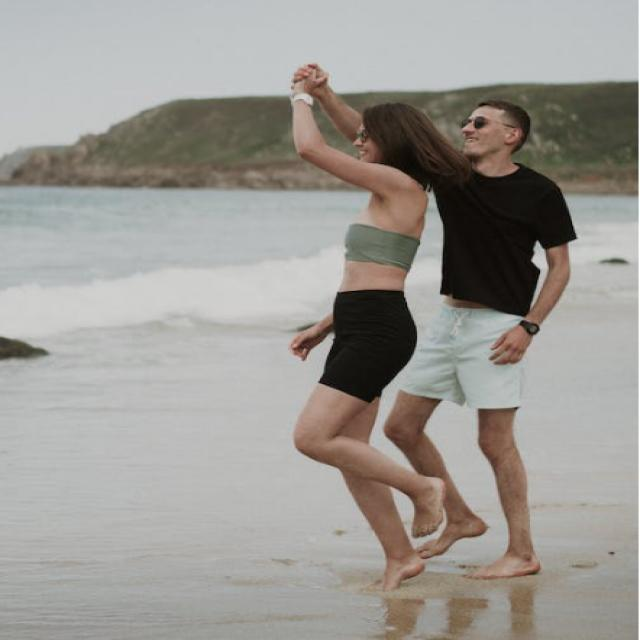Watch: (514, 314, 542, 342), (288, 88, 314, 110)
